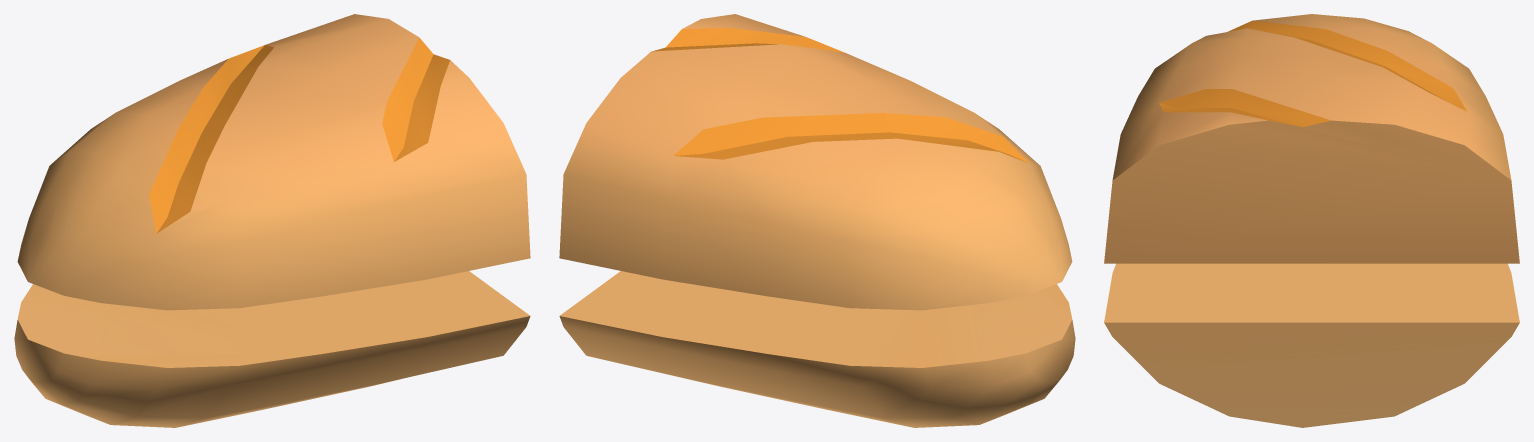
The model's file is Sandwich_Loaf_top_half.fbx.
3 renders of one model, left to right at view 1: azimuth 30°, elevation 25°; view 2: azimuth 150°, elevation 25°; view 3: azimuth 270°, elevation 25°, orthographic. The views are drawn at different scales.
Visible parts, largest first — view 1: Sandwich_Loaf_top_half, Sandwich_Loaf_Bottom_half; view 2: Sandwich_Loaf_top_half, Sandwich_Loaf_Bottom_half; view 3: Sandwich_Loaf_top_half, Sandwich_Loaf_Bottom_half.
Part boxes in pixels (x1,y1,x2,y2): Sandwich_Loaf_top_half: (17, 14, 530, 310); Sandwich_Loaf_Bottom_half: (14, 271, 530, 427); Sandwich_Loaf_top_half: (559, 14, 1072, 310); Sandwich_Loaf_Bottom_half: (559, 271, 1075, 427); Sandwich_Loaf_top_half: (1104, 14, 1519, 263); Sandwich_Loaf_Bottom_half: (1104, 263, 1519, 427).
Bounding box in the file's own units: 85.77 × 61.42 × 75.14.
